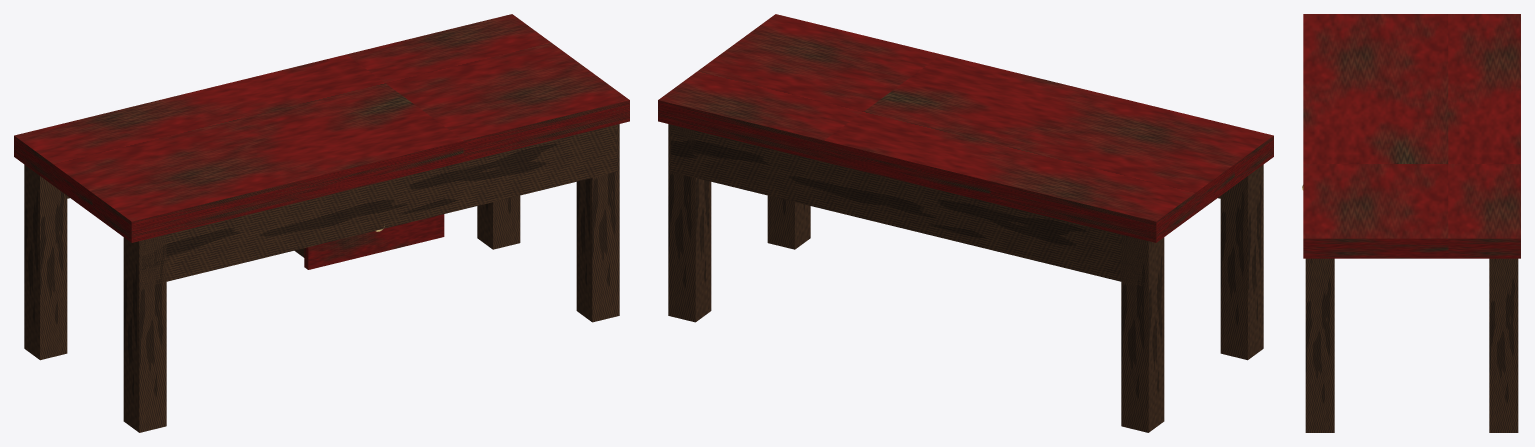
The model's file is altar_table.glb.
The picture shows the model from 3 angles, left to right: view 1: azimuth 30°, elevation 25°; view 2: azimuth 150°, elevation 25°; view 3: azimuth 270°, elevation 25°; orthographic projection. The views are drawn at different scales.
Parts seen in each view (by area): view 1: Top, ApronF, Leg_-100_38, Leg_-100_-38, Leg_100_38, DrawerFace, Leg_100_-38; view 2: Top, ApronB, Leg_-100_-38, Leg_-100_38, Leg_100_-38, Leg_100_38; view 3: Top, Leg_100_-38, Leg_100_38.
Part boxes in pixels (x1,y1,x2,y2): Top: [14, 14, 629, 242]; ApronF: [141, 124, 617, 287]; Leg_-100_38: [123, 234, 166, 432]; Leg_-100_-38: [24, 164, 67, 360]; Leg_100_38: [576, 124, 619, 322]; DrawerFace: [304, 214, 444, 269]; Leg_100_-38: [477, 195, 520, 249]; Top: [658, 14, 1273, 242]; ApronB: [670, 125, 1146, 286]; Leg_-100_-38: [1121, 234, 1164, 432]; Leg_-100_38: [1220, 164, 1263, 360]; Leg_100_-38: [668, 124, 711, 322]; Leg_100_38: [767, 195, 810, 249]; Top: [1303, 14, 1520, 258]; Leg_100_-38: [1489, 258, 1518, 432]; Leg_100_38: [1305, 258, 1334, 432].
Size of what is drawn, in the model's own units: 2.2 by 0.905 by 0.905.
Materials: 3 (2 with a texture image).
